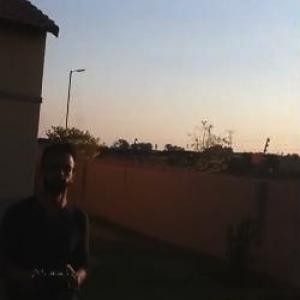follow: (0, 135, 105, 299)
